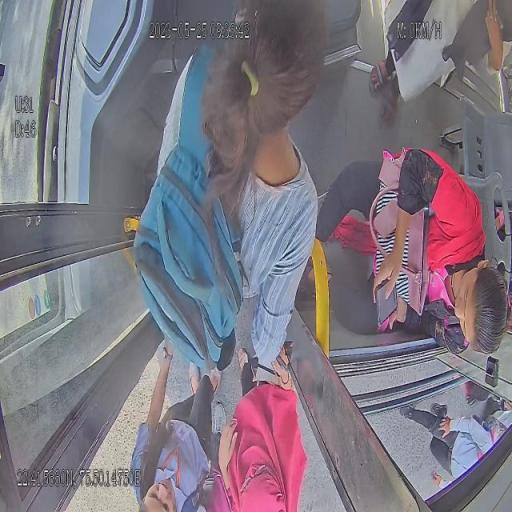persona: (133, 2, 330, 388), (315, 145, 509, 357), (361, 0, 512, 129), (206, 340, 308, 511), (129, 342, 221, 512), (399, 386, 511, 488)
